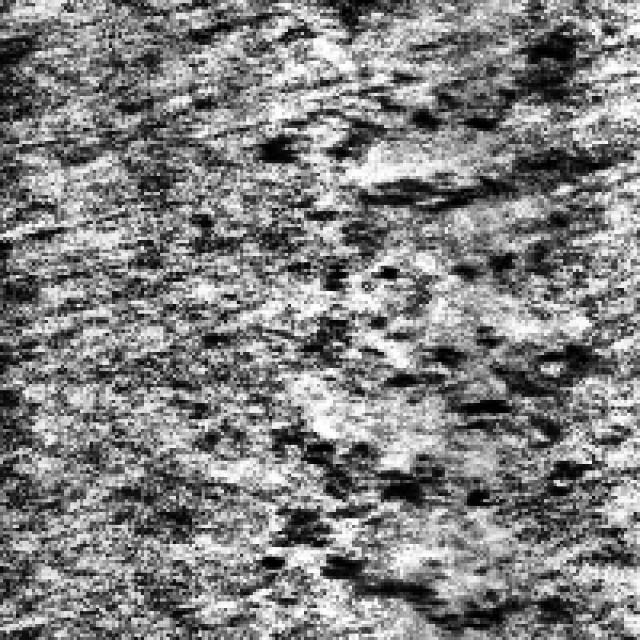Crazing: (300, 252, 566, 628), (262, 32, 570, 218)
